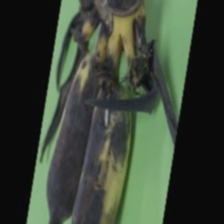banana: (26, 44, 188, 182)
